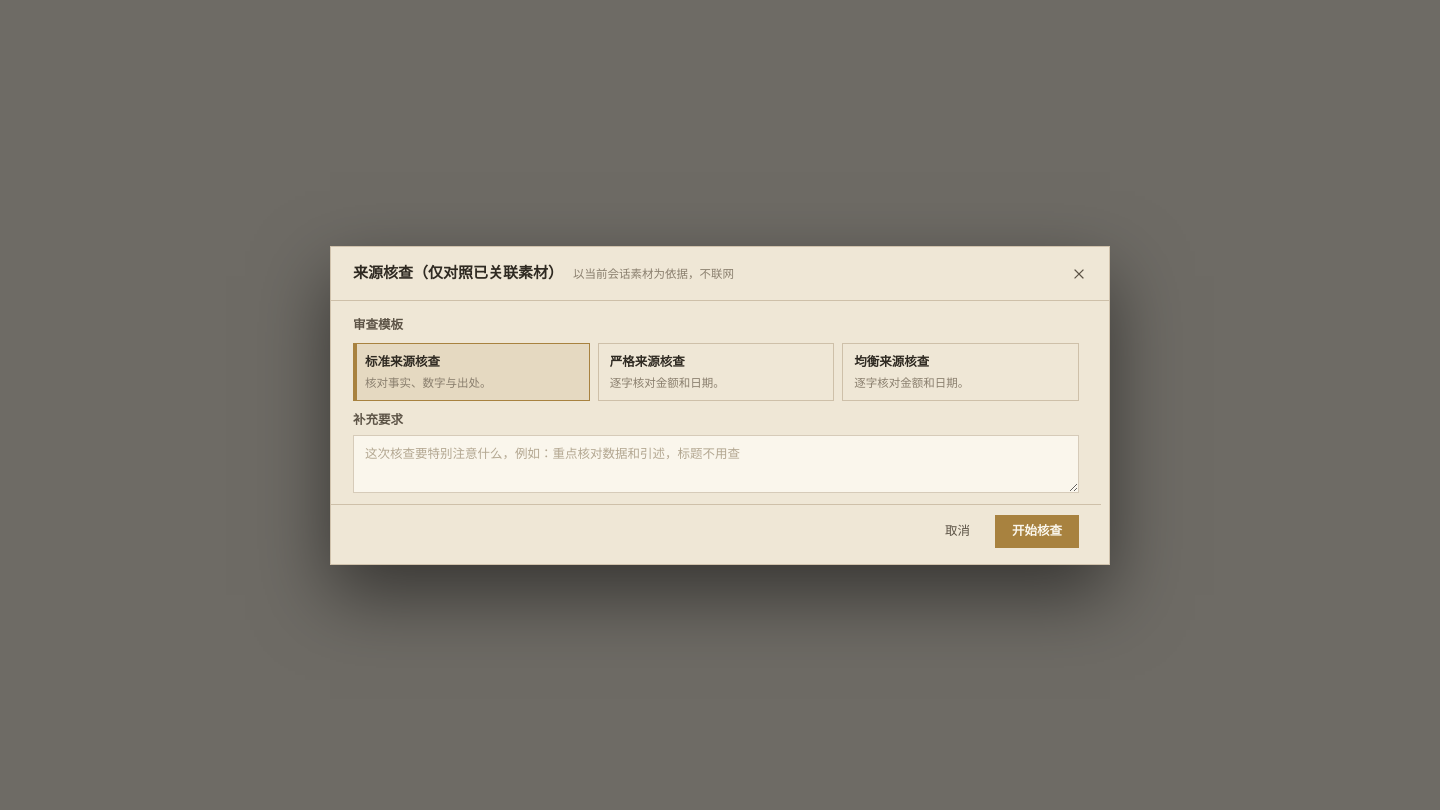
ReviewLaunchModal › 连续两次乐观选择均失败时回滚到最后确认持久化的模板
The width and height of the screenshot is (1440, 810).
What coordinates should you click on to do the following:
click the radio button labelled "严格来源核查 逐字核对金额和日期。"
I would click on:
 (716, 371)
Its box is [599,343,833,400].
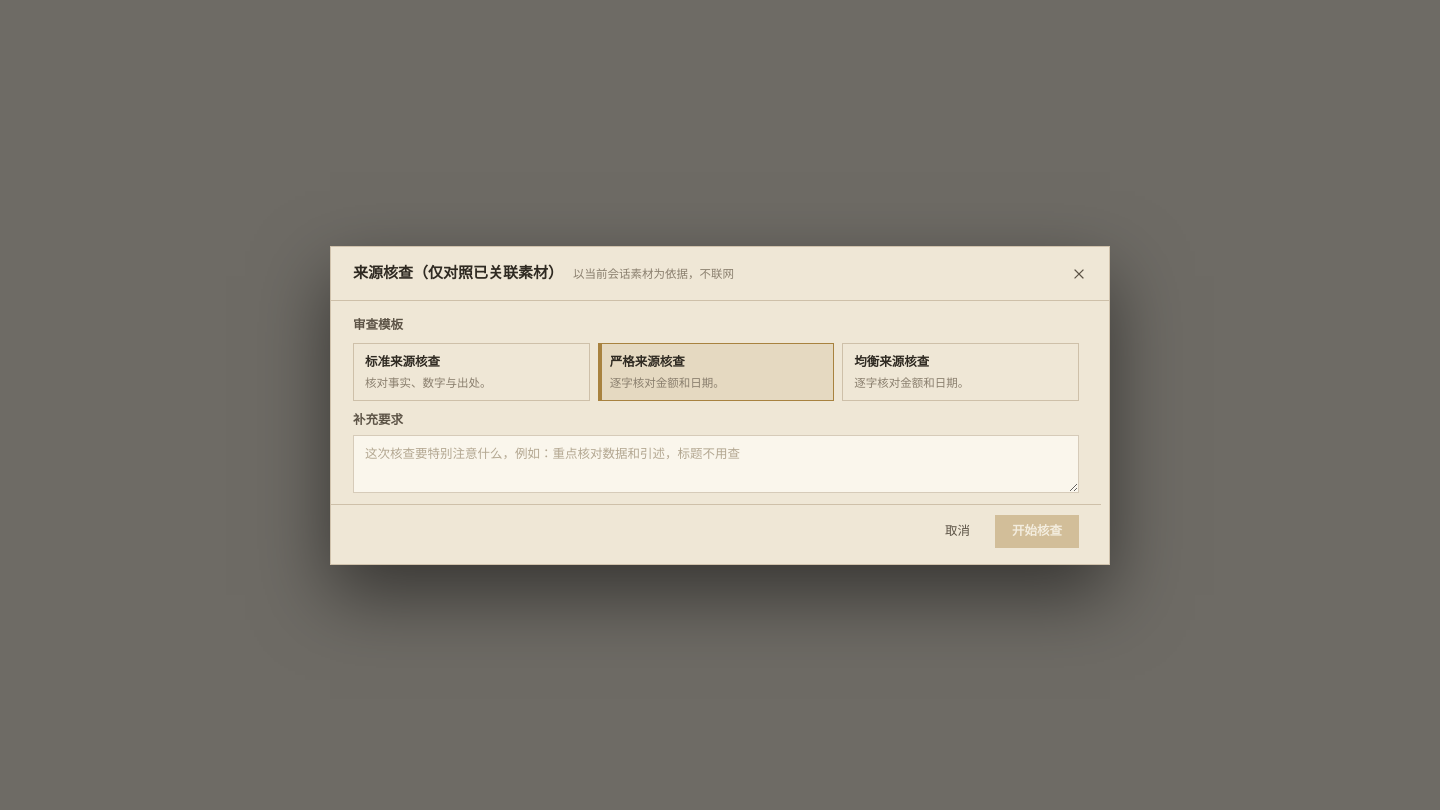
What coordinates should you click on to do the following:
click the radio button labelled "均衡来源核查 逐字核对金额和日期。"
I would click on:
 (961, 371)
Its box is [843,343,1078,400].
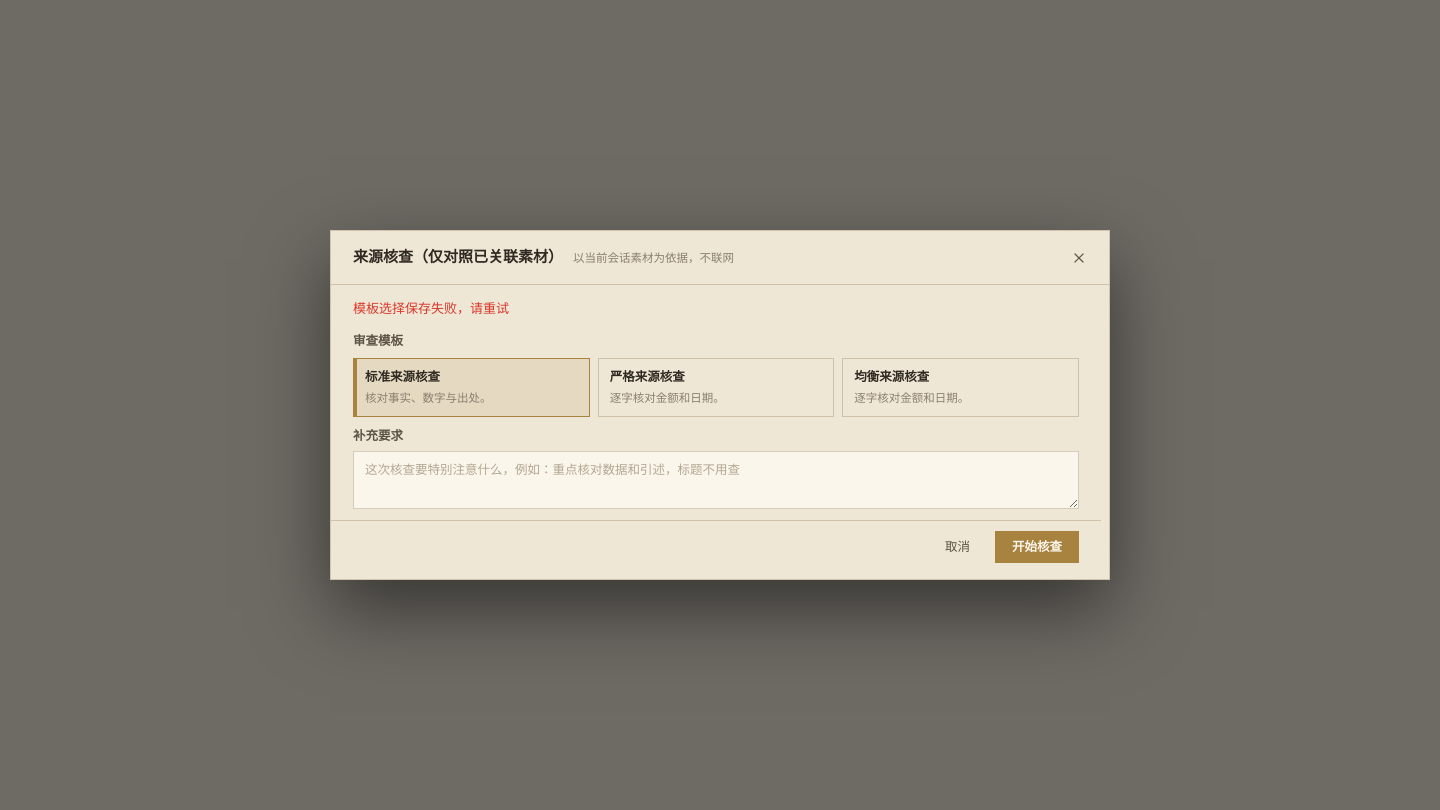
Now the message "模板选择保存失败，请重试" is shown, box [353,301,509,316]
